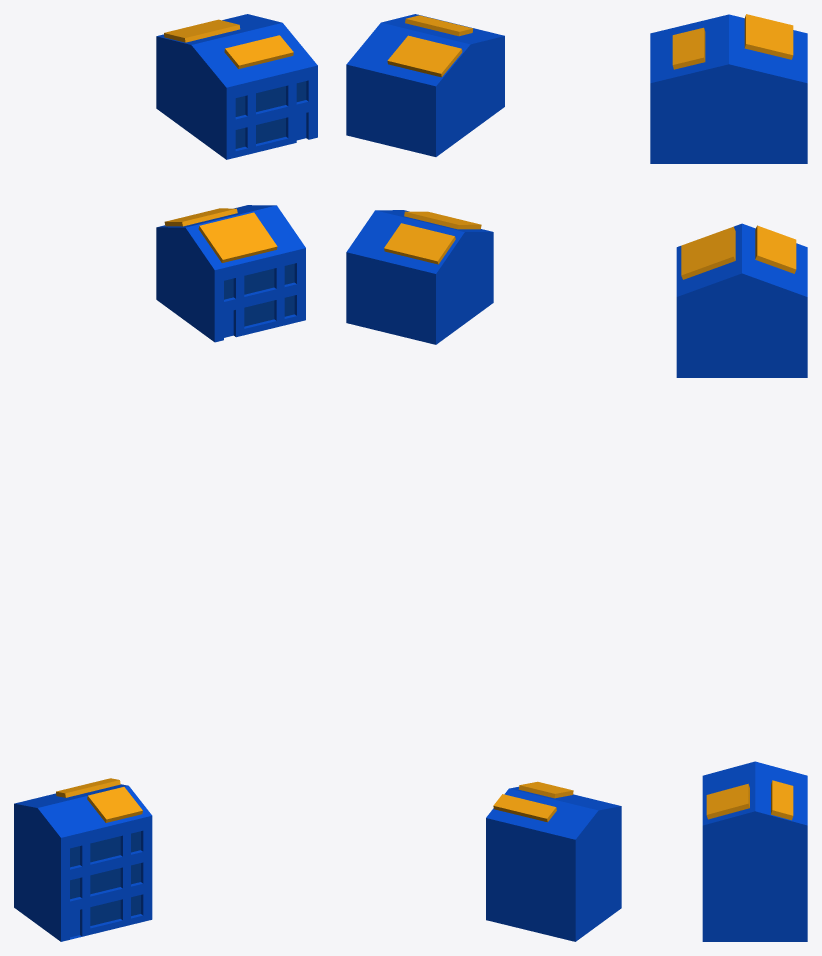
The model's file is BinaGrup3.gltf.
The picture shows the model from 3 angles, left to right: view 1: azimuth 30°, elevation 25°; view 2: azimuth 150°, elevation 25°; view 3: azimuth 270°, elevation 25°; orthographic projection. The views are drawn at different scales.
Parts seen in each view (by area): view 1: Building_074.017, Building_077.017, Building_078.017, Building_074.019, Building_078_RoofCap_0.001, Building_078.019, Building_077.019, Building_077_RoofCap_0.001, Building_074_RoofCap_0.001, Building_077_RoofCap_1.001, Building_078_RoofCap_1.001; view 2: Building_074.017, Building_077.017, Building_078.017, Building_077_RoofCap_1.001, Building_078_RoofCap_1.001, Building_074_RoofCap_1.001, Building_078_RoofCap_0.001, Building_077_RoofCap_0.001; view 3: Building_077.017, Building_074.017, Building_078.017, Building_078_RoofCap_0.001, Building_077_RoofCap_1.001, Building_078_RoofCap_1.001, Building_077_RoofCap_0.001, Building_074_RoofCap_0.001, Building_074_RoofCap_1.001.
Boxes of the visible parts, <box> form: Building_074.017: <box>14,784,152,941</box>; Building_077.017: <box>156,14,317,159</box>; Building_078.017: <box>156,205,305,342</box>; Building_074.019: <box>70,831,140,925</box>; Building_078_RoofCap_0.001: <box>198,212,277,262</box>; Building_078.019: <box>224,263,294,326</box>; Building_077.019: <box>235,81,306,148</box>; Building_077_RoofCap_0.001: <box>224,35,293,69</box>; Building_074_RoofCap_0.001: <box>87,787,142,822</box>; Building_077_RoofCap_1.001: <box>164,19,240,42</box>; Building_078_RoofCap_1.001: <box>164,208,237,226</box>; Building_074.017: <box>486,786,621,941</box>; Building_077.017: <box>346,14,504,156</box>; Building_078.017: <box>346,210,493,344</box>; Building_077_RoofCap_1.001: <box>387,35,462,77</box>; Building_078_RoofCap_1.001: <box>384,223,455,264</box>; Building_074_RoofCap_1.001: <box>493,794,556,822</box>; Building_078_RoofCap_0.001: <box>404,211,481,229</box>; Building_077_RoofCap_0.001: <box>405,15,473,36</box>; Building_077.017: <box>650,14,807,163</box>; Building_074.017: <box>702,761,807,941</box>; Building_078.017: <box>676,223,807,377</box>; Building_078_RoofCap_0.001: <box>681,226,735,279</box>; Building_077_RoofCap_1.001: <box>744,14,793,59</box>; Building_078_RoofCap_1.001: <box>755,225,796,273</box>; Building_077_RoofCap_0.001: <box>672,27,705,69</box>; Building_074_RoofCap_0.001: <box>706,783,749,819</box>; Building_074_RoofCap_1.001: <box>771,780,793,820</box>.
Size of the model in its own units: 0.125 by 0.4374 by 0.0652.
